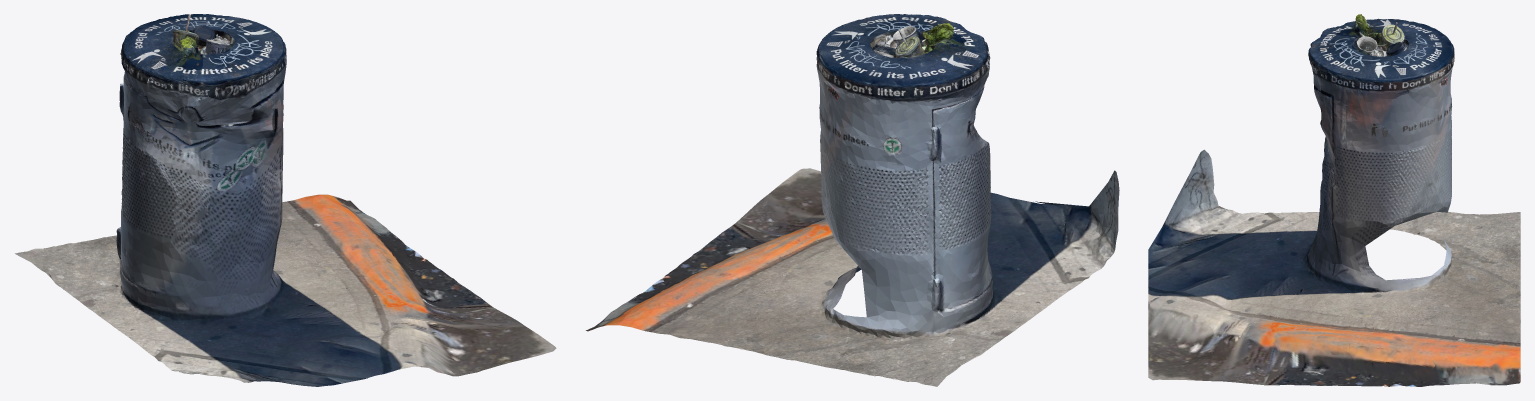
The model's file is render.glb.
3 views of the same model, side by side, from view 1: azimuth 30°, elevation 25°; view 2: azimuth 150°, elevation 25°; view 3: azimuth 270°, elevation 25° (orthographic). The views are drawn at different scales.
Size of the model in its own units: 1.46 by 1.24 by 1.58.
Materials: 1 (1 with a texture image).
